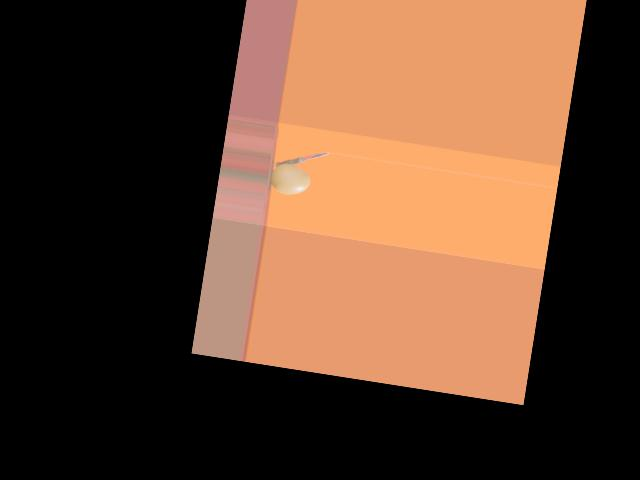egg: (269, 161, 311, 196)
